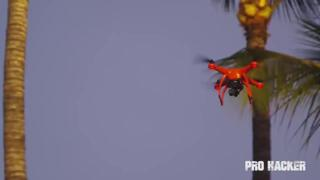UAV: (199, 58, 264, 106)
